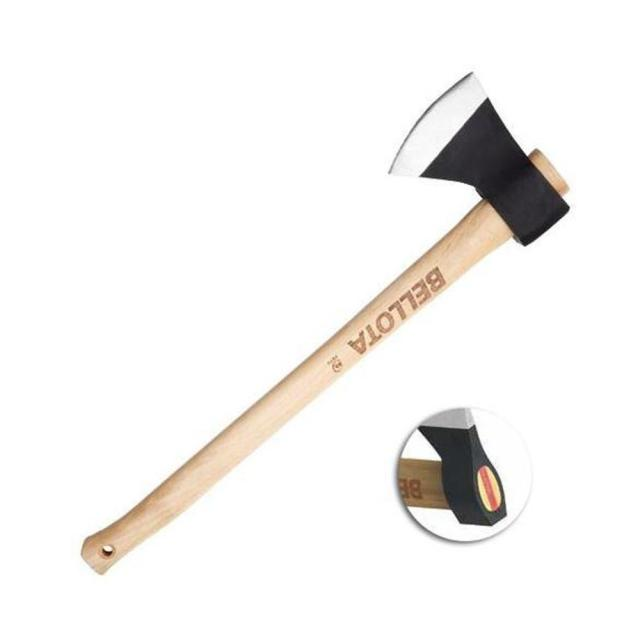Kapak: (37, 48, 565, 483)
